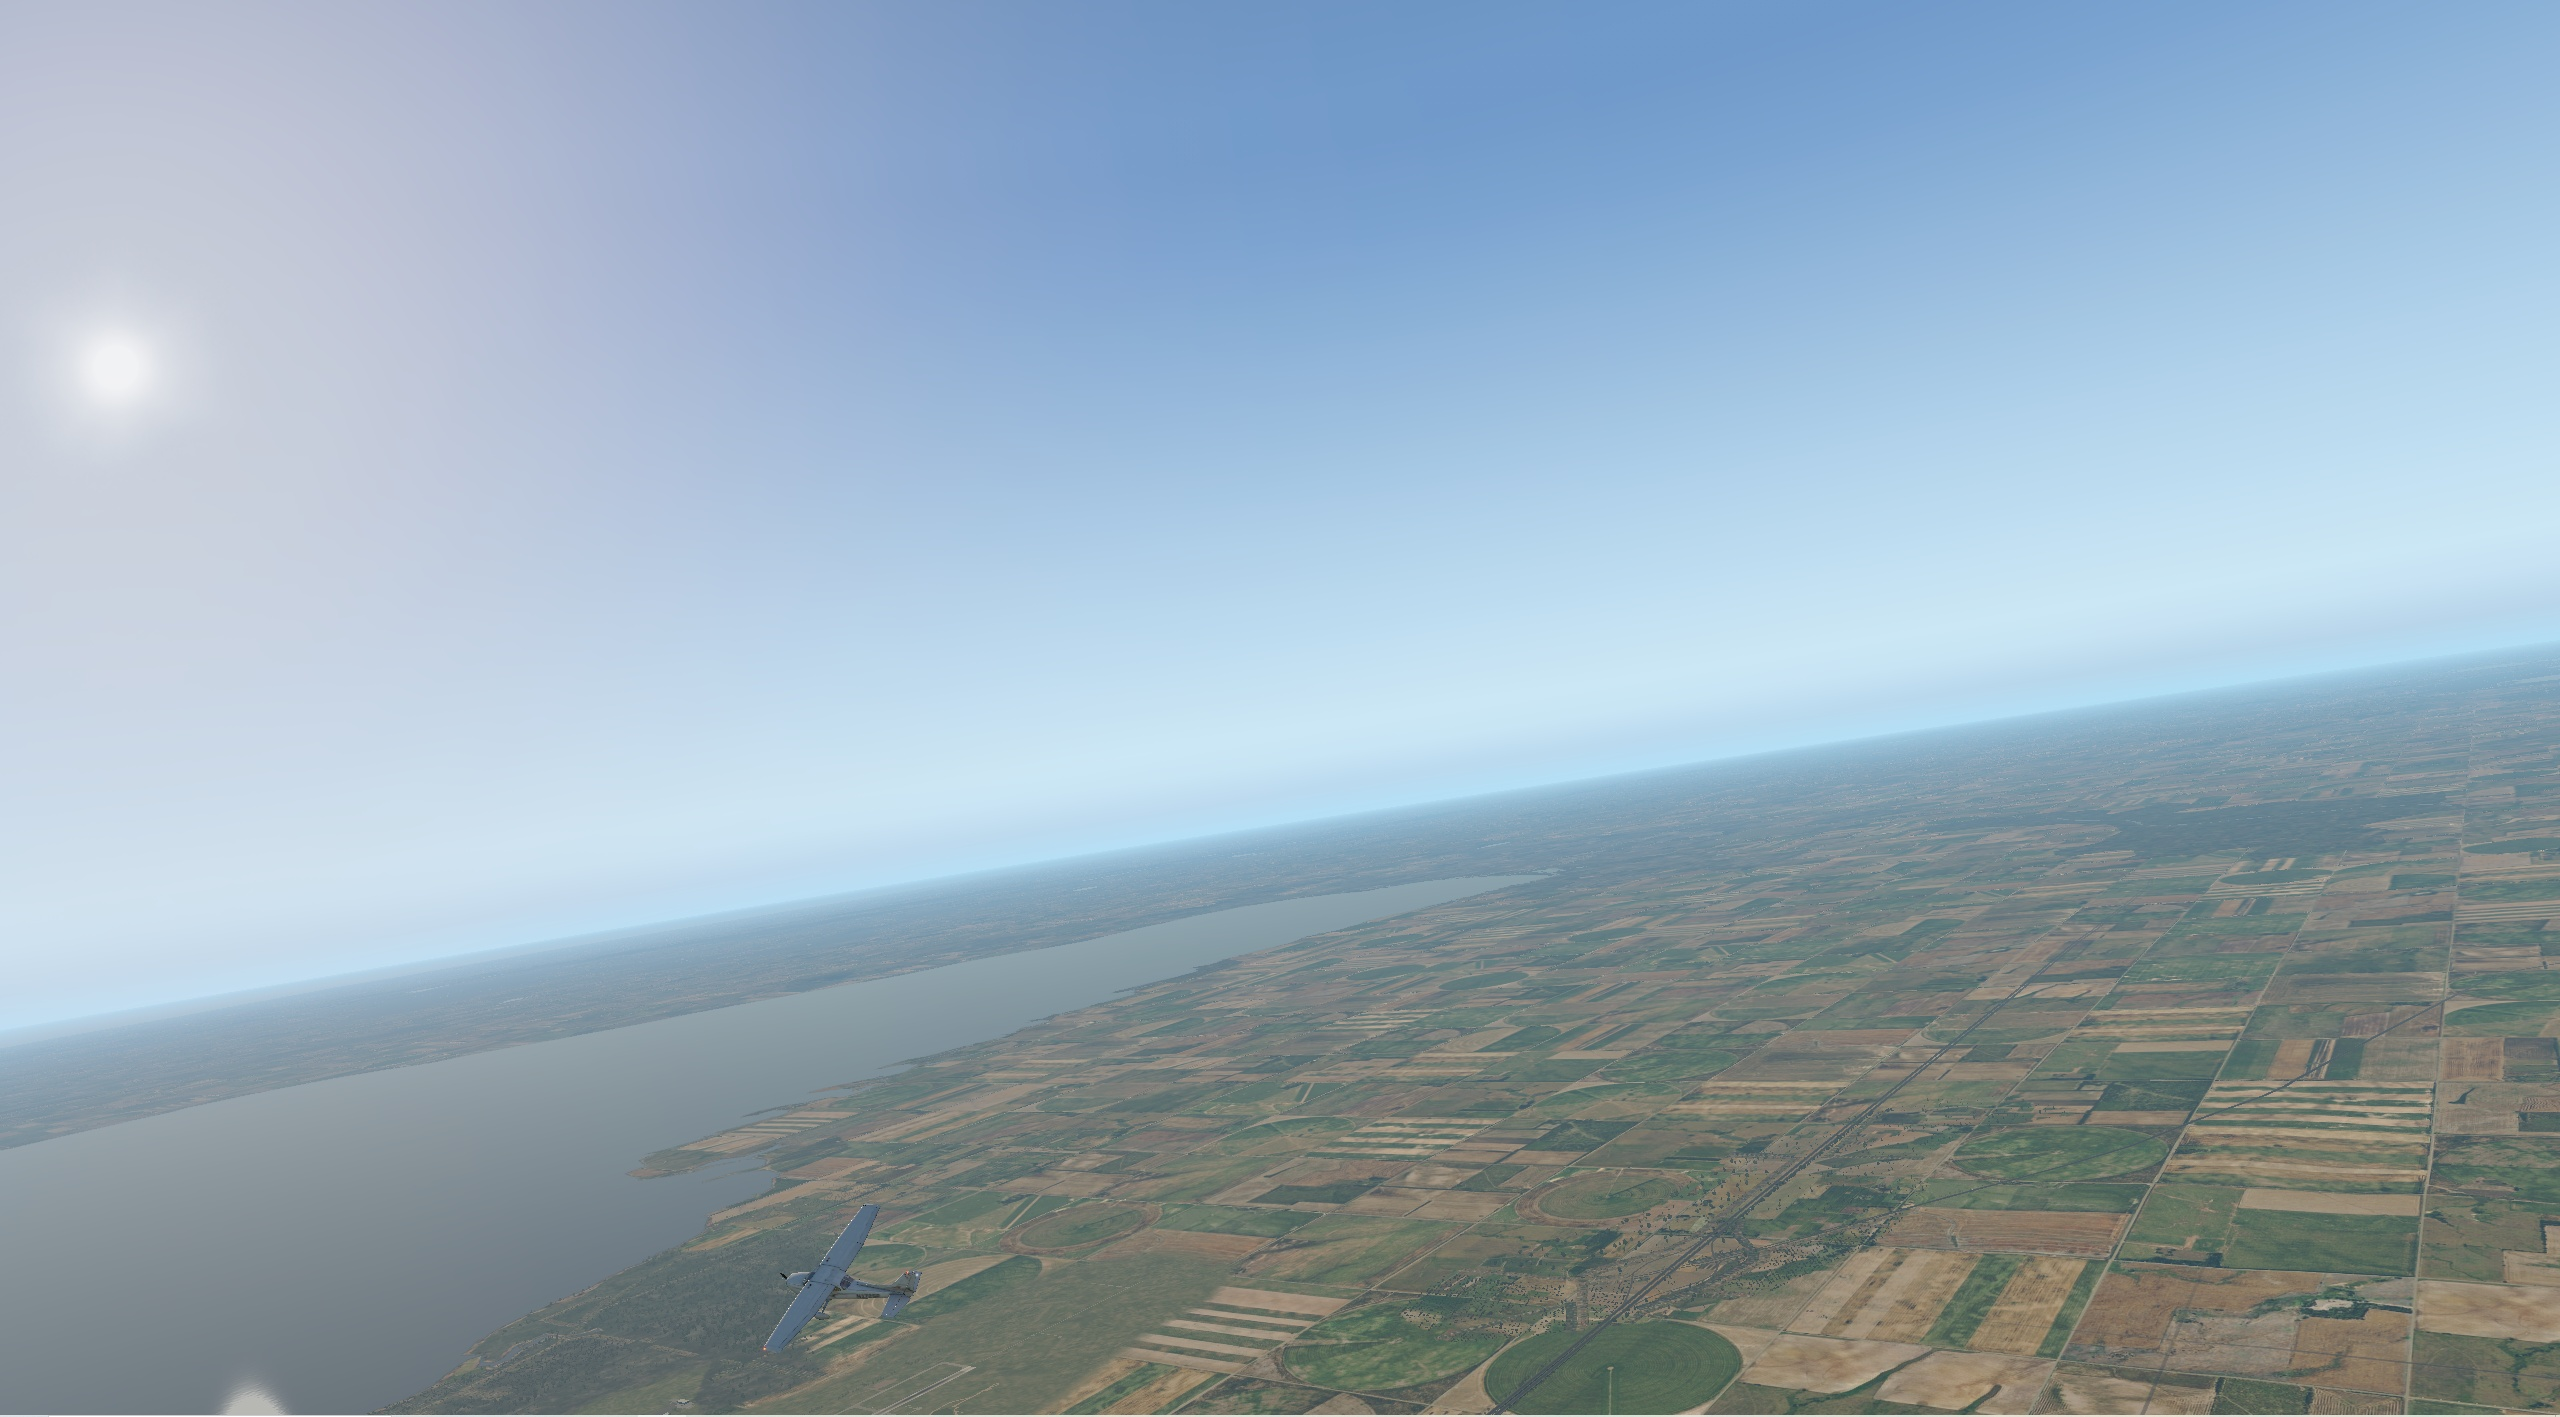aircraft: (714, 1241, 934, 1325)
